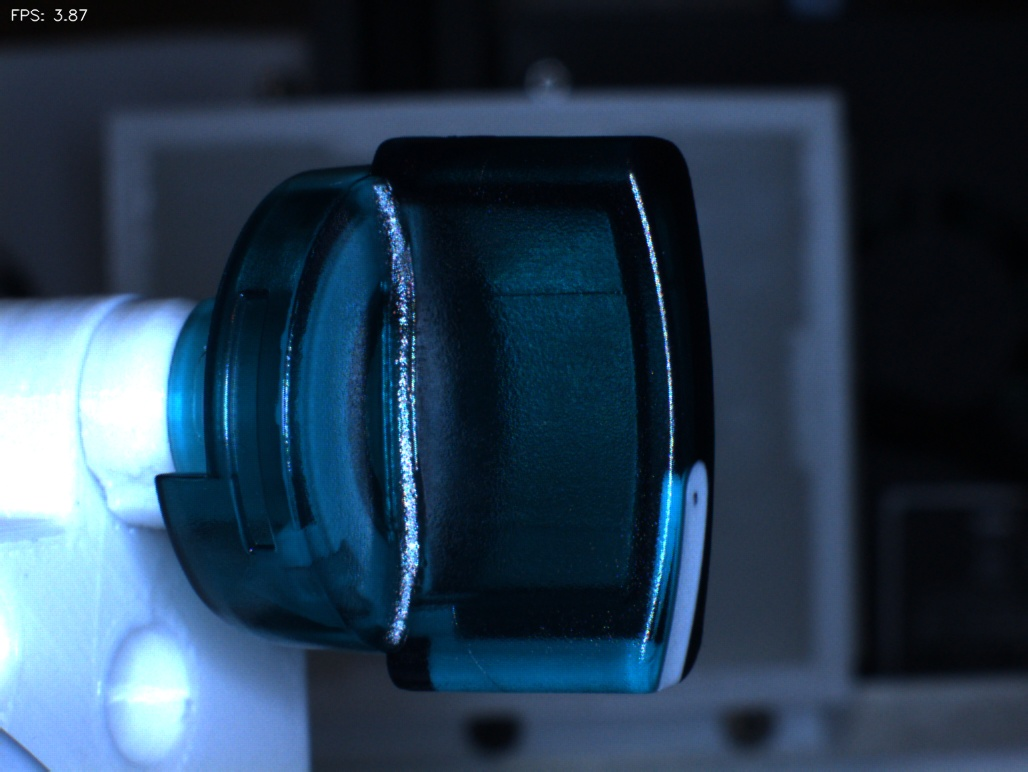PointNoir: (673, 463, 733, 533)
